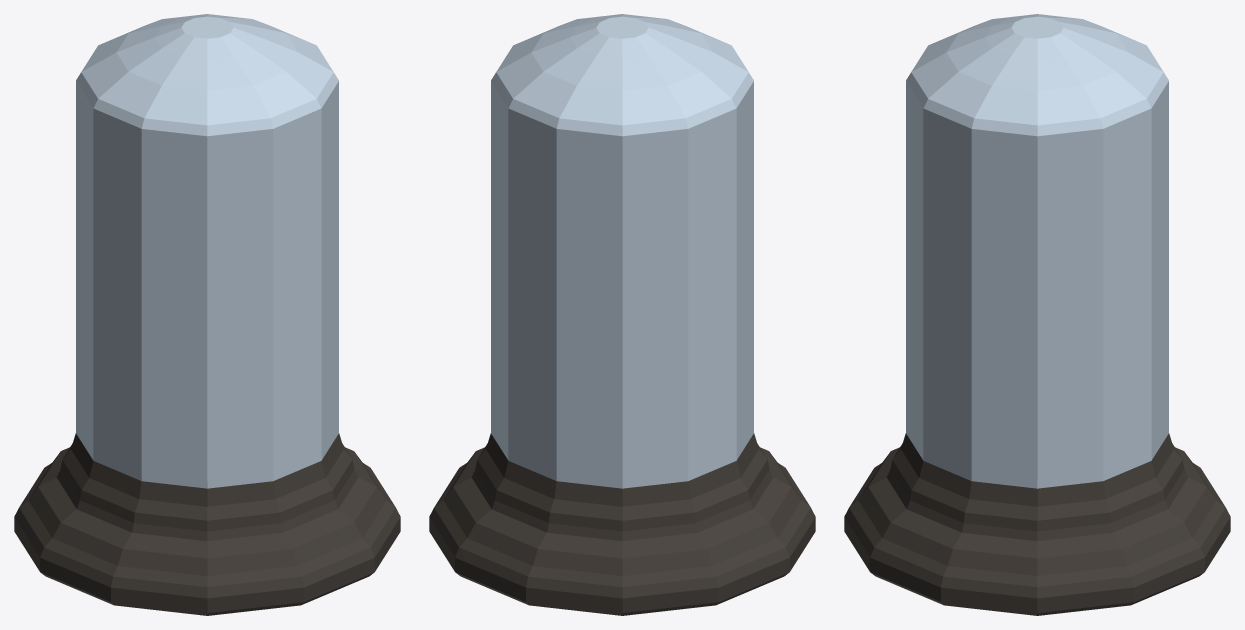
File: GlassChamber.fbx
3 renders of one model, left to right at view 1: azimuth 30°, elevation 25°; view 2: azimuth 150°, elevation 25°; view 3: azimuth 270°, elevation 25°, orthographic.
Visible parts, largest first — view 1: Cylinder; view 2: Cylinder; view 3: Cylinder.
Part boxes in pixels (x1=…): Cylinder: x1=14, y1=14, x2=400, y2=615; Cylinder: x1=429, y1=14, x2=815, y2=615; Cylinder: x1=844, y1=14, x2=1230, y2=615.
Size of the model in its own units: 294 by 427 by 294.
